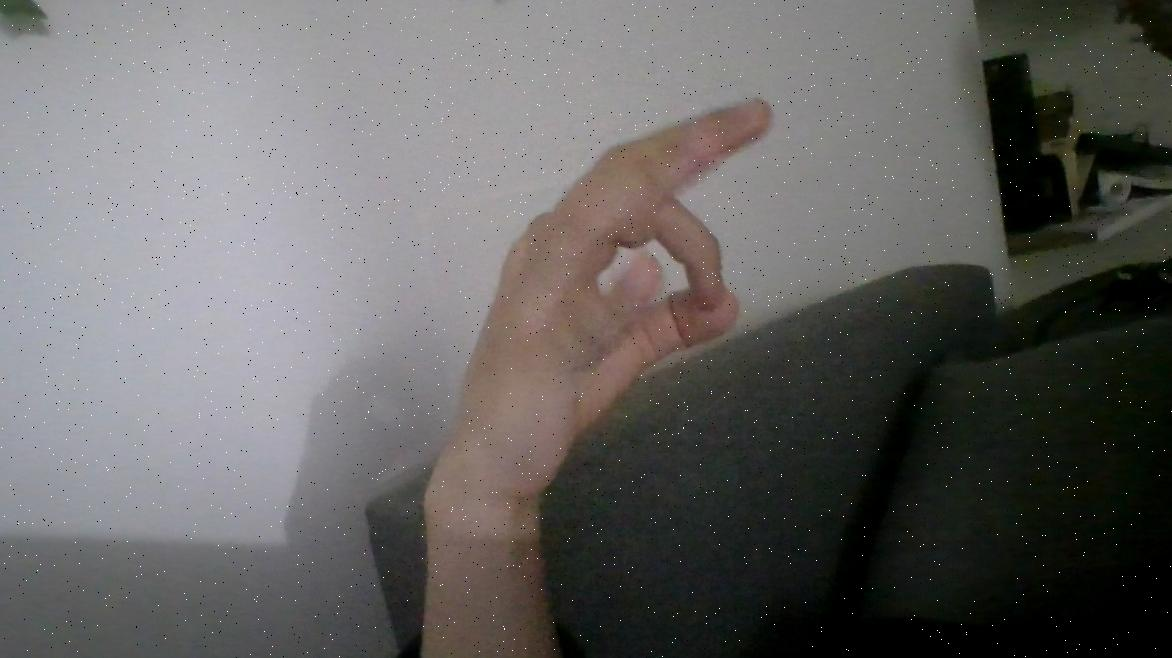zero: (391, 40, 811, 519)
